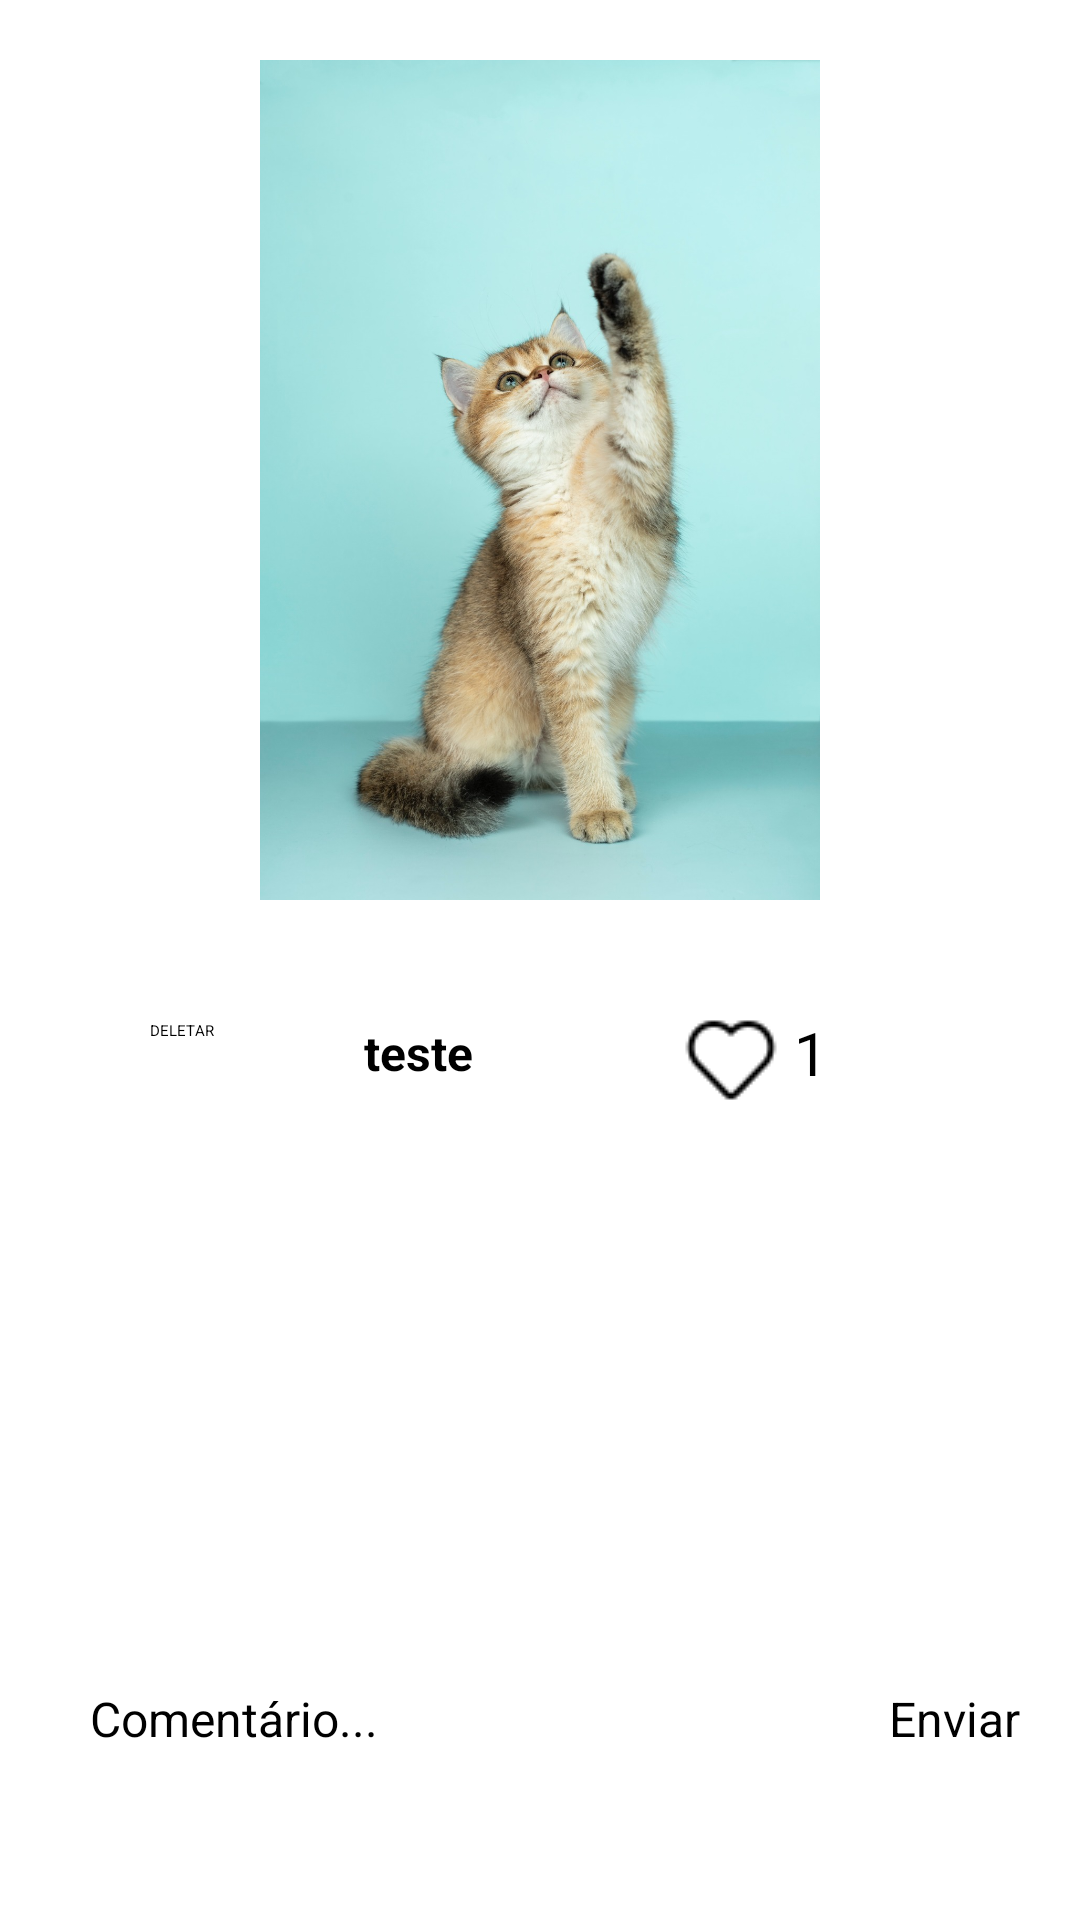

Named icons in this screenshot (1080w x 1920h) and their bounding boxes, bbox=[x1, y1, x2, y2]:
heart: bbox=[685, 1020, 777, 1100]
